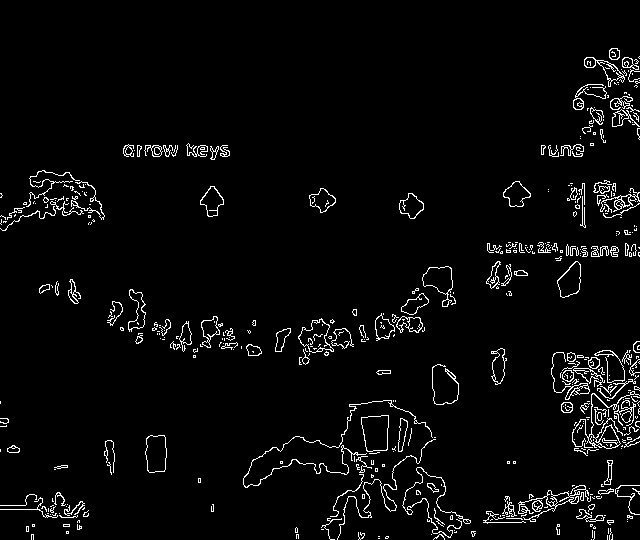right: (301, 181, 340, 225), (392, 186, 431, 227)
up: (497, 173, 537, 219), (193, 181, 230, 227)
